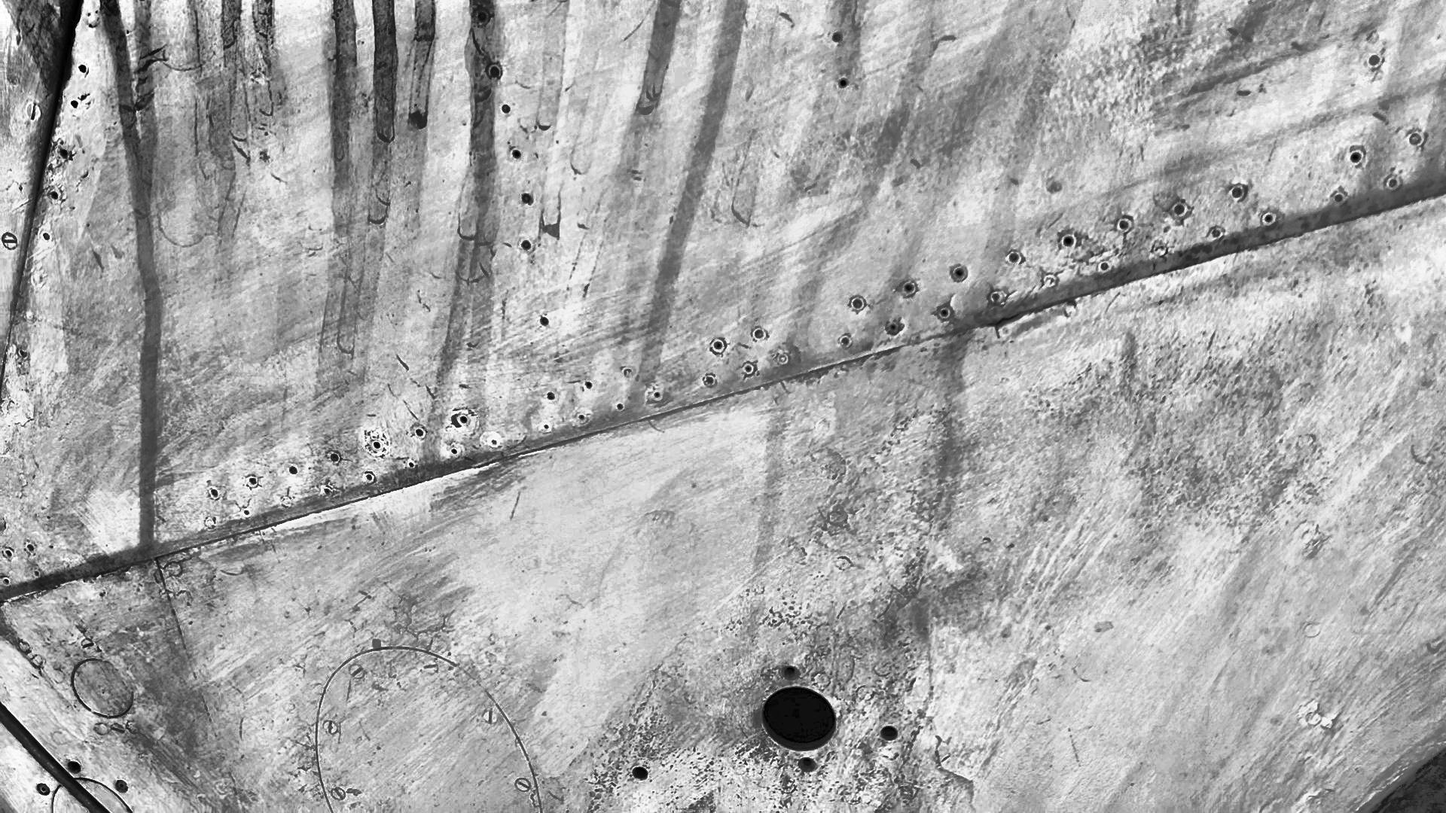crack: (987, 311, 1020, 327)
missing-head: (708, 337, 727, 356), (849, 294, 868, 312), (1228, 181, 1248, 198), (740, 359, 761, 375), (796, 758, 817, 773), (68, 760, 85, 777), (783, 664, 800, 681), (1007, 248, 1022, 267), (1172, 198, 1190, 213), (247, 472, 262, 489), (951, 265, 966, 282), (473, 9, 488, 26), (454, 416, 473, 429), (1058, 235, 1077, 248), (488, 64, 501, 83), (369, 440, 388, 452), (286, 465, 303, 478), (1350, 147, 1361, 166), (900, 282, 917, 294), (363, 470, 375, 487), (1117, 218, 1130, 233), (412, 427, 426, 440), (1263, 211, 1275, 226), (538, 312, 550, 327), (940, 305, 953, 318), (612, 403, 627, 414), (576, 408, 587, 423), (751, 329, 764, 341), (520, 194, 537, 203), (887, 322, 900, 333), (582, 382, 597, 391), (329, 452, 341, 463), (540, 422, 552, 433), (705, 374, 717, 385), (650, 391, 663, 401), (522, 239, 533, 250), (544, 391, 555, 401), (501, 104, 512, 113), (241, 506, 249, 518), (510, 149, 523, 156), (211, 489, 220, 499), (43, 231, 51, 242), (60, 147, 68, 157), (407, 461, 416, 469), (450, 446, 458, 455), (322, 486, 329, 495), (70, 100, 77, 109), (79, 66, 86, 74), (51, 190, 57, 199)
